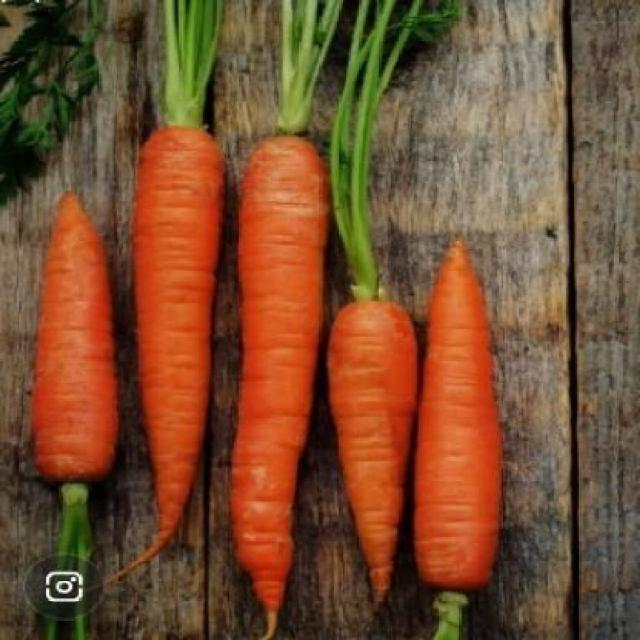carrot: (232, 124, 341, 630), (127, 124, 227, 580), (411, 225, 505, 606), (327, 291, 429, 616), (18, 185, 113, 483)
